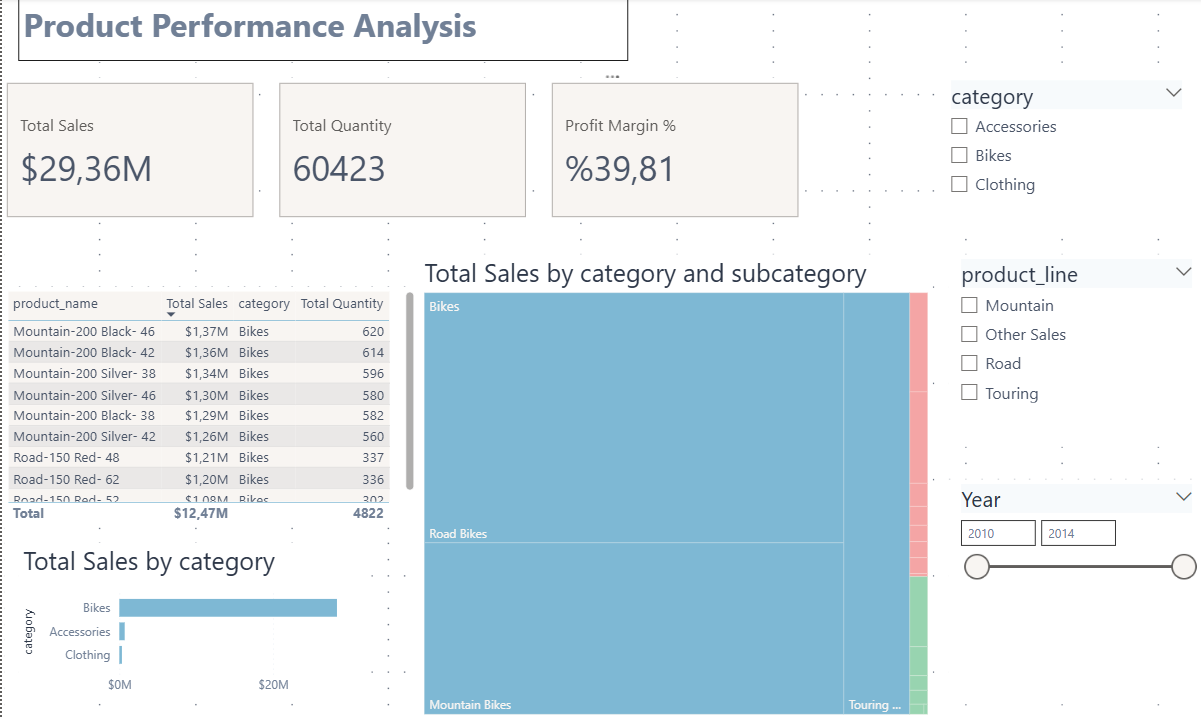

What the dashboard file says about the page in this screenshot:
{"tool":"powerbi","page":{"name":"Product Analysis","canvas":[1280,720],"ordinal":1},"visuals":[{"type":"textbox","box":[16,0,608,64],"z":0},{"type":"cardVisual","fields":{"Data":["_Measures.Total Sales"]},"box":[0,80,256,144],"z":1000},{"type":"cardVisual","fields":{"Data":["_Measures.Total Quantity"]},"box":[272,80,256,144],"z":2000},{"type":"cardVisual","fields":{"Data":["_Measures.Profit Margin %"]},"box":[544,80,256,144],"z":3000},{"type":"tableEx","fields":{"Values":["gold dim_products.product_name","_Measures.Total Sales","gold dim_products.category","_Measures.Total Quantity"]},"box":[0,288,400,240],"z":4000},{"type":"treemap","fields":{"Group":["gold dim_products.category"],"Details":["gold dim_products.subcategory"],"Values":["_Measures.Total Sales"]},"box":[400,256,512,448],"z":5000},{"type":"barChart","fields":{"Category":["gold dim_products.category"],"Y":["_Measures.Total Sales","CountNonNull(gold dim_products.product_line)"]},"box":[16,544,352,160],"z":6000},{"type":"slicer","fields":{"Values":["gold dim_products.category"]},"box":[934,77,256,150],"z":7000},{"type":"slicer","fields":{"Values":["gold dim_products.product_line"]},"box":[944,256,256,192],"z":8000},{"type":"slicer","fields":{"Values":["DateTable.Year"]},"box":[944,480,256,224],"z":9000}]}

Visuals, with their boxes on the page's 1280x720 design canvas (x1, y1, x2, y2). These are canvas units, not pixel positions in the 1201x718 screenshot, which may show the page scaled, cropped or inside an application window:
textbox: x1=16 y1=0 x2=624 y2=64
cardVisual - _Measures.Total Sales: x1=0 y1=80 x2=256 y2=224
cardVisual - _Measures.Total Quantity: x1=272 y1=80 x2=528 y2=224
cardVisual - _Measures.Profit Margin %: x1=544 y1=80 x2=800 y2=224
tableEx - gold dim_products.product_name x _Measures.Total Sales: x1=0 y1=288 x2=400 y2=528
treemap - gold dim_products.category x gold dim_products.subcategory: x1=400 y1=256 x2=912 y2=704
barChart - gold dim_products.category x _Measures.Total Sales: x1=16 y1=544 x2=368 y2=704
slicer - gold dim_products.category: x1=934 y1=77 x2=1190 y2=227
slicer - gold dim_products.product_line: x1=944 y1=256 x2=1200 y2=448
slicer - DateTable.Year: x1=944 y1=480 x2=1200 y2=704
